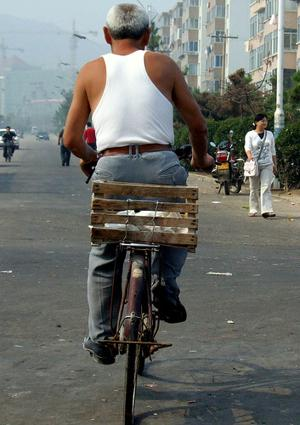person: (62, 5, 211, 365)
